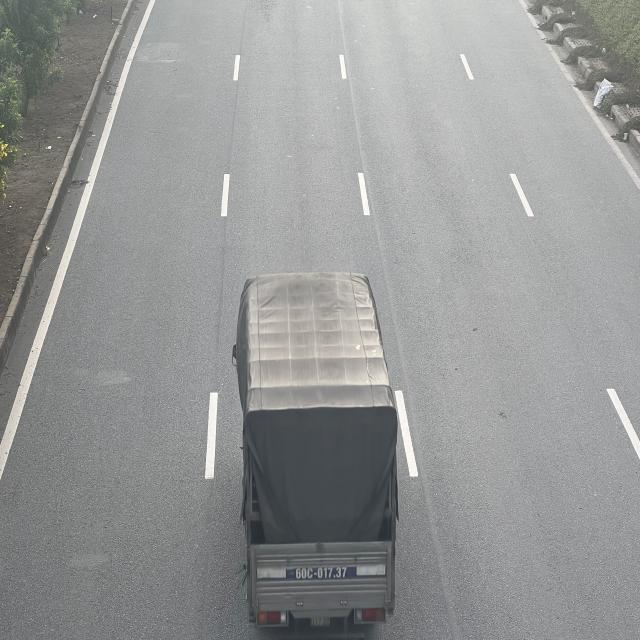truck: (232, 268, 401, 633)
